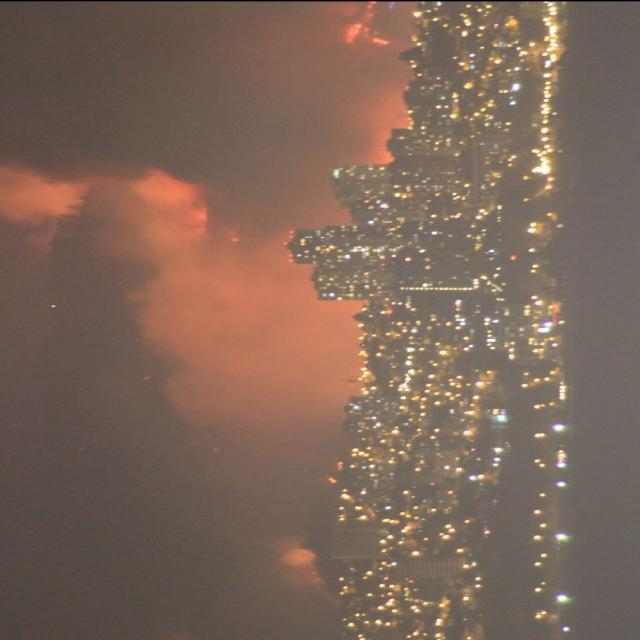Fire: (332, 8, 398, 50), (192, 207, 212, 236)
